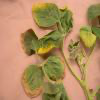Soyabean leaf: (32, 3, 61, 28), (37, 30, 63, 54)
